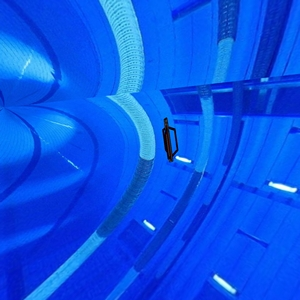submarine: (159, 118, 182, 164)
